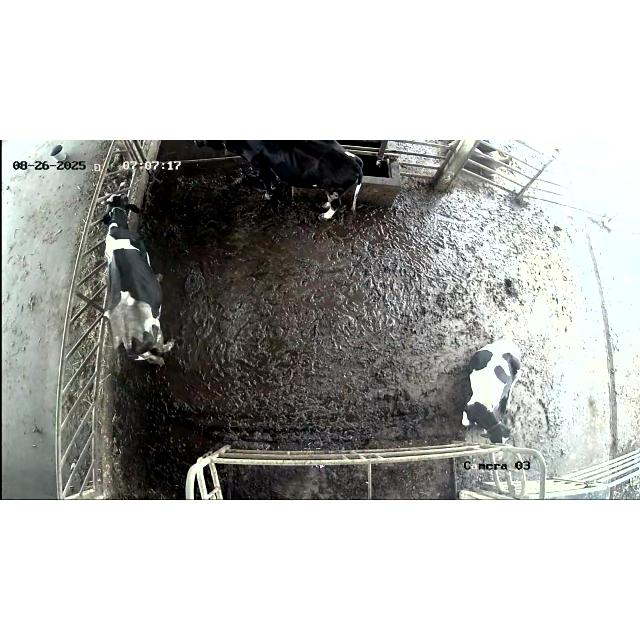stand: (99, 192, 198, 372), (184, 140, 372, 216)
